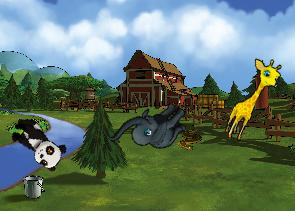elephant: (107, 83, 194, 172)
giraffe: (221, 53, 285, 147)
panda: (4, 112, 70, 174)
